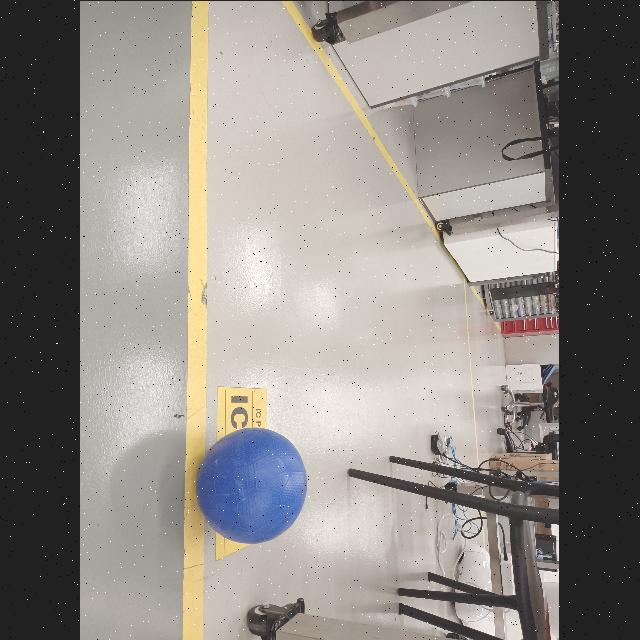B: (194, 423, 310, 542)
